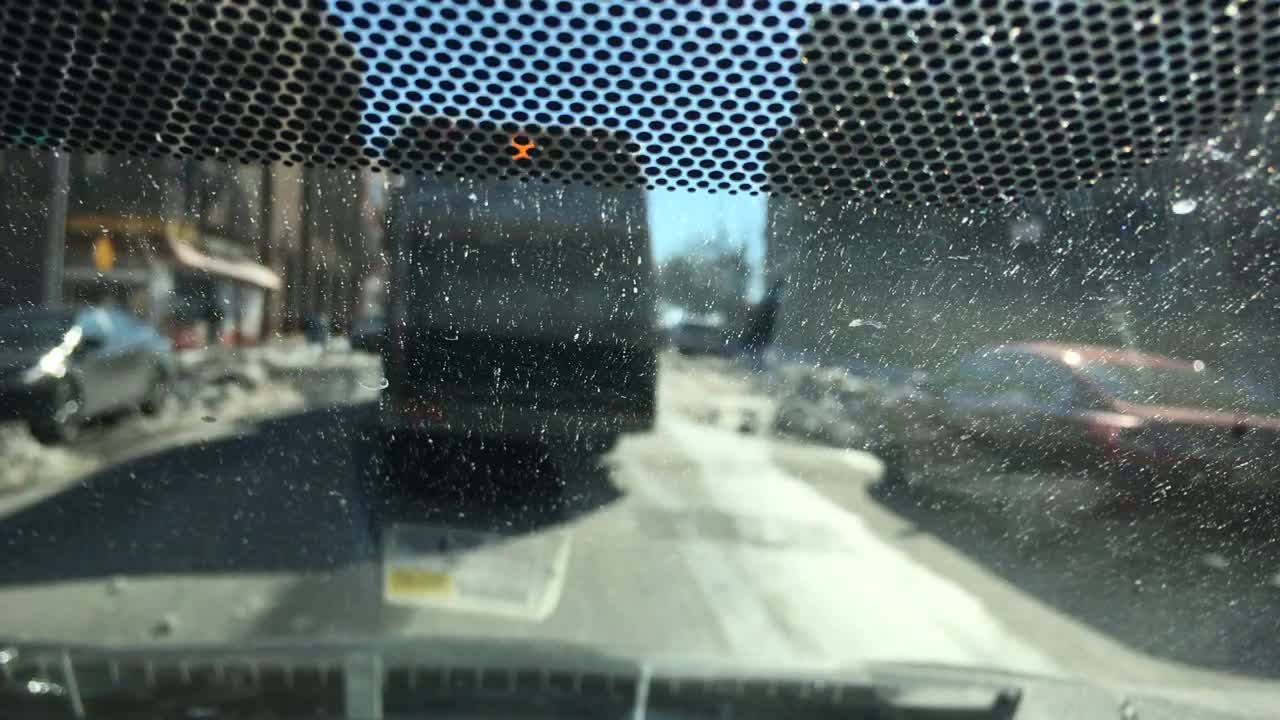car: (868, 343, 1279, 537), (1, 304, 177, 444), (352, 271, 392, 355), (675, 324, 735, 355)
truck: (373, 117, 658, 481)
